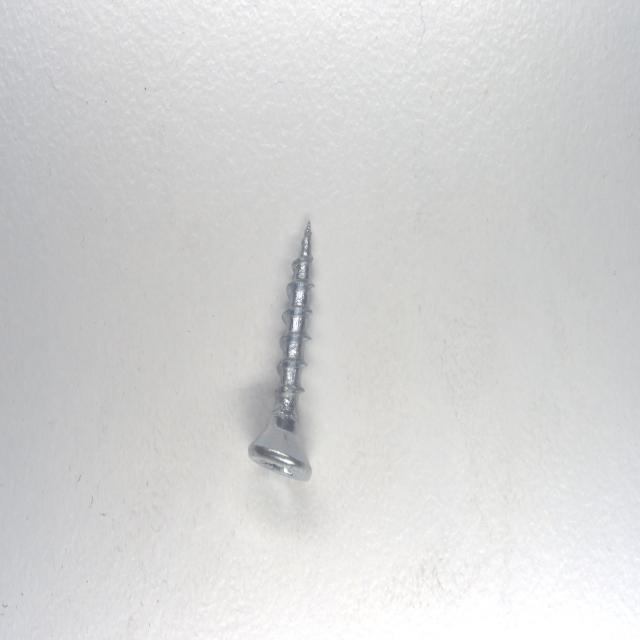Screw: (248, 219, 318, 483)
